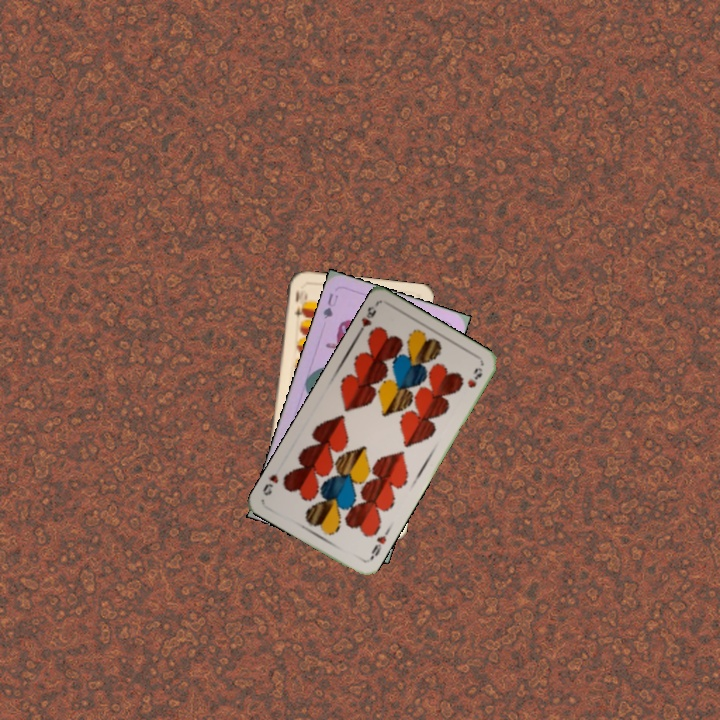E10: (290, 285, 307, 325)
GU: (319, 289, 341, 322)
H9: (366, 526, 392, 563), (354, 301, 380, 337)
